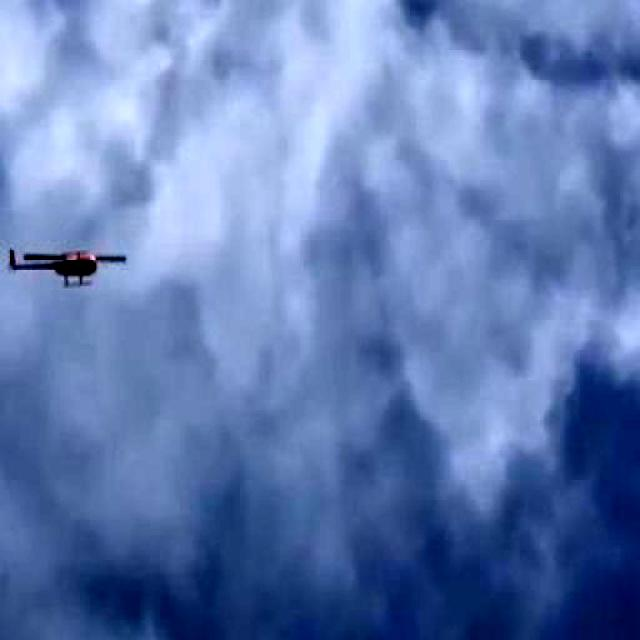drone: (0, 178, 145, 348)
